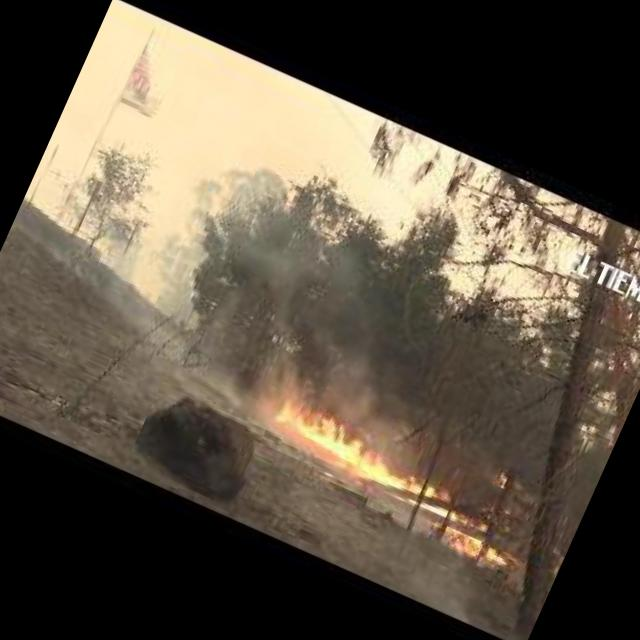fire: (273, 394, 477, 520), (446, 527, 506, 568)
